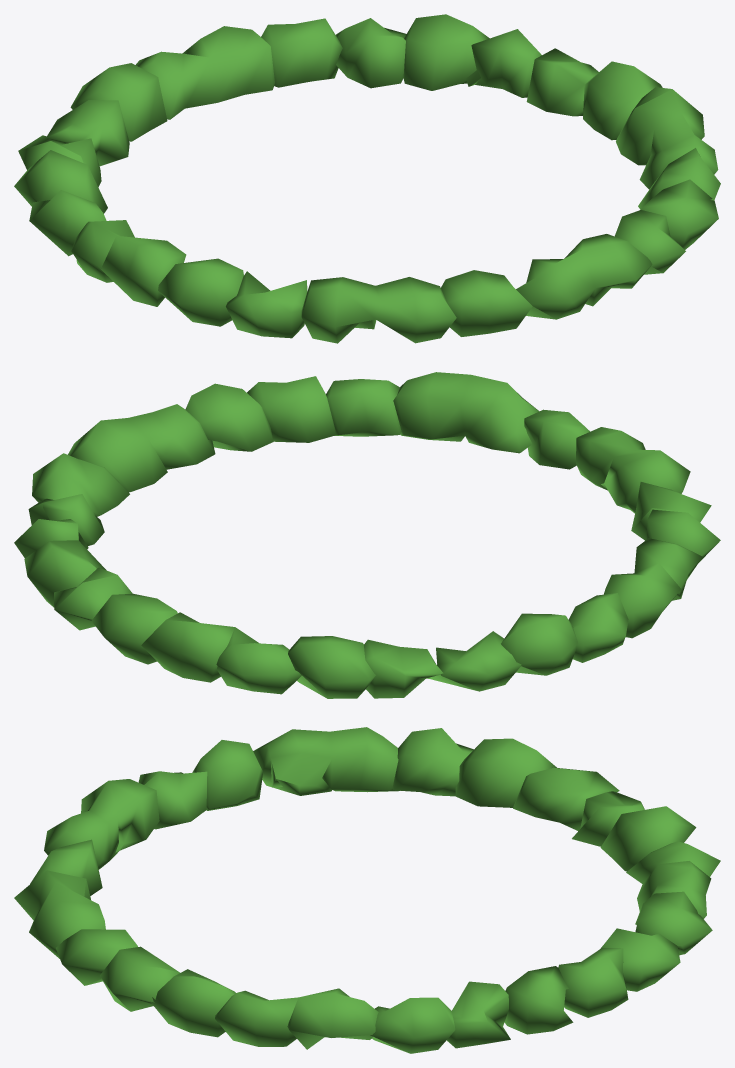
The model's file is イドのそこのコケ.fbx.
3 views of the same model, one above another, from view 1: azimuth 30°, elevation 25°; view 2: azimuth 150°, elevation 25°; view 3: azimuth 270°, elevation 25° (orthographic).
Visible parts, largest first — view 1: コケ; view 2: コケ; view 3: コケ.
Boxes of the visible parts, <box> form: コケ: <box>14,14,720,343</box>; コケ: <box>14,372,720,698</box>; コケ: <box>14,727,720,1053</box>.
Bounding box in the file's own units: 84.34 × 7.7 × 84.86.
